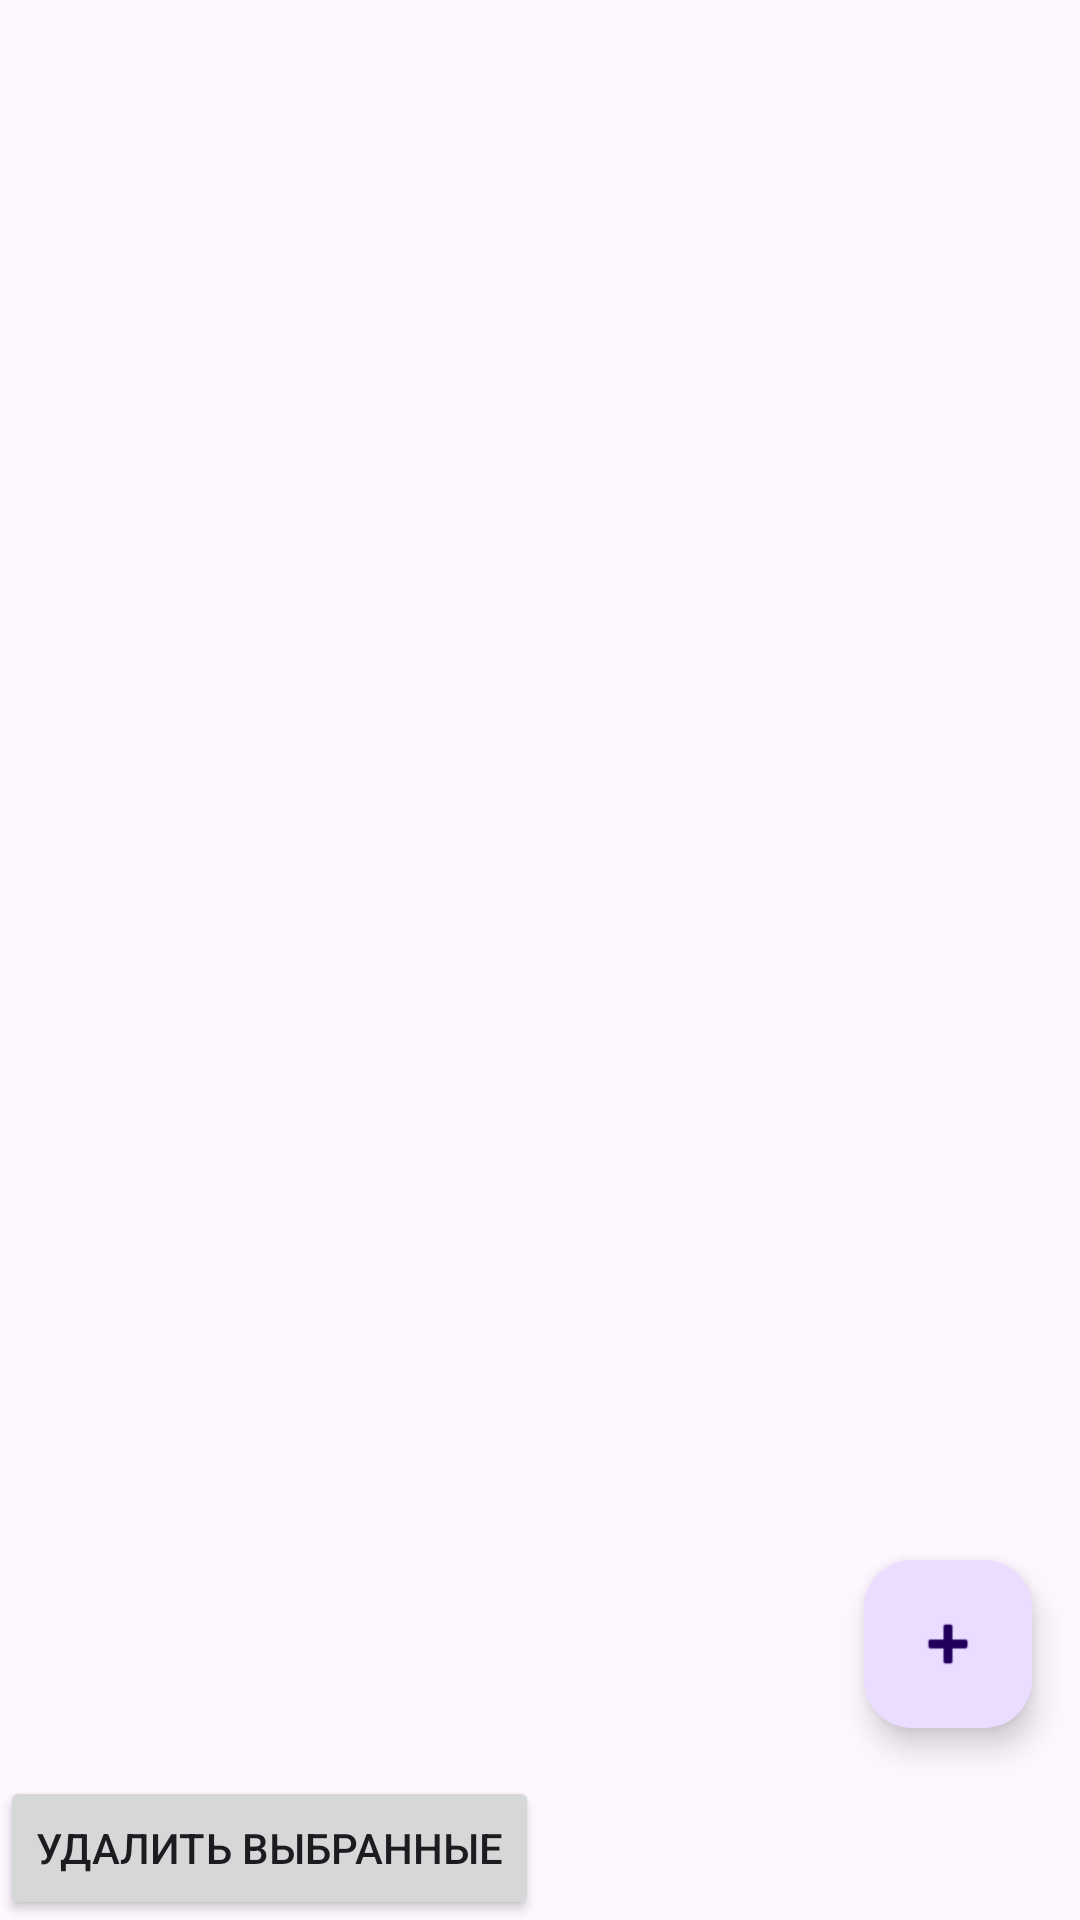

Named icons in this screenshot (1080x1920) and their centers, [x,y]:
add: [948,1644]
